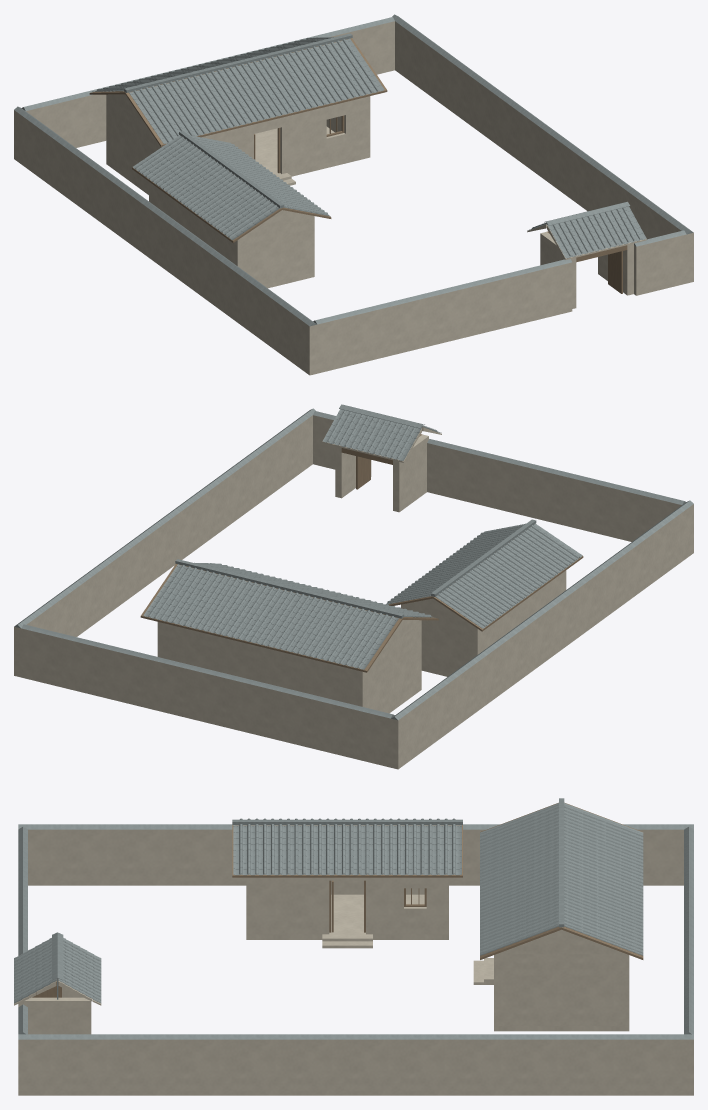
File: courtyard-A-roofs-v2.glb
The picture shows the model from 3 angles, top to bottom: view 1: azimuth 30°, elevation 25°; view 2: azimuth 150°, elevation 25°; view 3: azimuth 270°, elevation 25°; orthographic projection. The views are drawn at different scales.
Parts seen in each view (by area): view 1: A_enhanced_earth, main_tile_shells_C, A_enhanced_tile, side_tile_shells_C, main_simple_ridge_C, A_enhanced_wood, main_C_substrate_-1, side_simple_ridge_C, side_C_gable_infill_-1; view 2: A_enhanced_earth, main_tile_shells_C, A_enhanced_tile, side_tile_shells_C, main_simple_ridge_C, main_C_substrate_1, side_simple_ridge_C, A_enhanced_wood, side_C_gable_infill_1; view 3: A_enhanced_earth, main_tile_shells_C, A_enhanced_tile, side_tile_shells_C, main_C_gable_infill_1, side_simple_ridge_C, side_C_substrate_-1, A_enhanced_wood, main_simple_ridge_C, main_C_substrate_1, main_C_substrate_-1.
Part boxes in pixels (x1=…): A_enhanced_earth: x1=14, y1=21, x2=693, y2=375; main_tile_shells_C: x1=92, y1=37, x2=384, y2=143; A_enhanced_tile: x1=14, y1=14, x2=693, y2=326; side_tile_shells_C: x1=133, y1=135, x2=330, y2=240; main_simple_ridge_C: x1=124, y1=33, x2=352, y2=92; A_enhanced_wood: x1=254, y1=115, x2=627, y2=293; main_C_substrate_-1: x1=125, y1=38, x2=387, y2=146; side_simple_ridge_C: x1=179, y1=131, x2=284, y2=208; side_C_gable_infill_-1: x1=248, y1=210, x2=314, y2=233; A_enhanced_earth: x1=14, y1=415, x2=693, y2=769; main_tile_shells_C: x1=143, y1=562, x2=435, y2=669; A_enhanced_tile: x1=14, y1=404, x2=693, y2=720; side_tile_shells_C: x1=386, y1=523, x2=582, y2=628; main_simple_ridge_C: x1=175, y1=559, x2=403, y2=618; main_C_substrate_1: x1=140, y1=564, x2=402, y2=672; side_simple_ridge_C: x1=431, y1=519, x2=536, y2=596; A_enhanced_wood: x1=341, y1=434, x2=422, y2=489; side_C_gable_infill_1: x1=401, y1=598, x2=467, y2=622; A_enhanced_earth: x1=14, y1=829, x2=693, y2=1095; main_tile_shells_C: x1=480, y1=803, x2=643, y2=955; A_enhanced_tile: x1=14, y1=824, x2=693, y2=1039; side_tile_shells_C: x1=233, y1=818, x2=461, y2=875; main_C_gable_infill_1: x1=496, y1=929, x2=626, y2=954; side_simple_ridge_C: x1=232, y1=819, x2=462, y2=824; side_C_substrate_-1: x1=232, y1=825, x2=462, y2=877; A_enhanced_wood: x1=29, y1=880, x2=426, y2=997; main_simple_ridge_C: x1=559, y1=798, x2=564, y2=927; main_C_substrate_1: x1=561, y1=802, x2=643, y2=959; main_C_substrate_-1: x1=480, y1=802, x2=561, y2=959.
Size of the model in its own units: 18 by 4.43 by 24.15.
3 materials, 3 textured.
